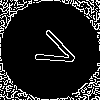V: (25, 25, 81, 75)
